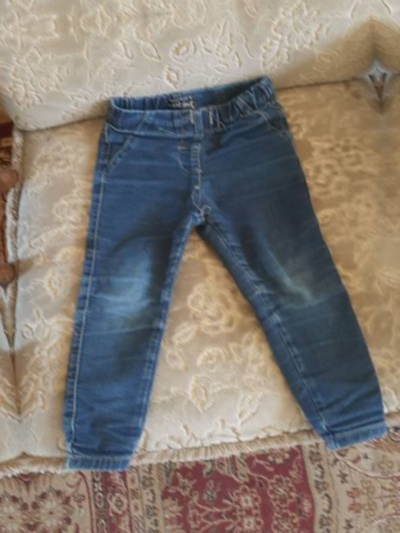Pants: (21, 47, 371, 485)
